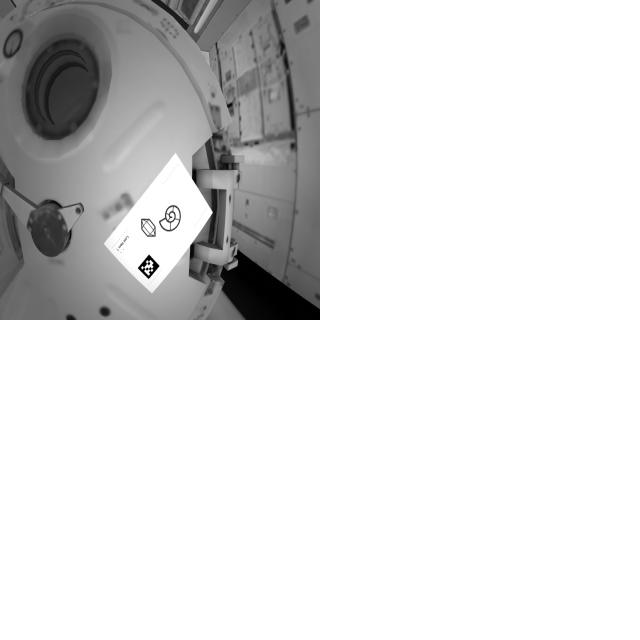crystal: (139, 218, 160, 242)
fossil: (159, 205, 187, 233)
